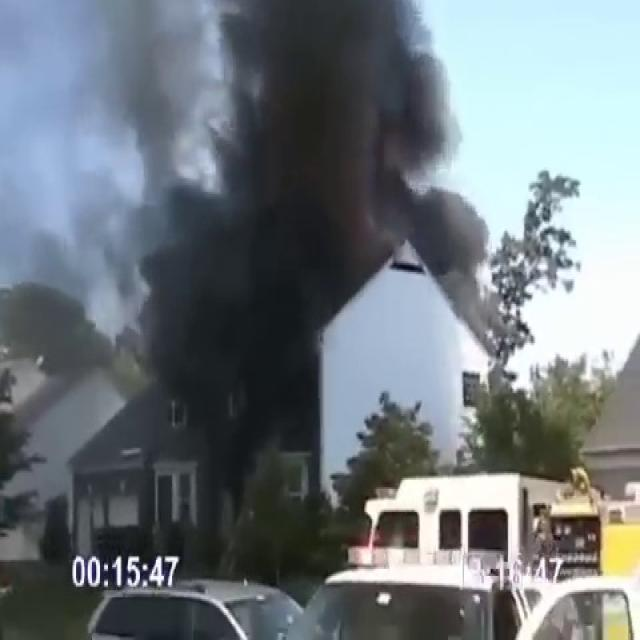Smoke: (45, 0, 490, 421)
